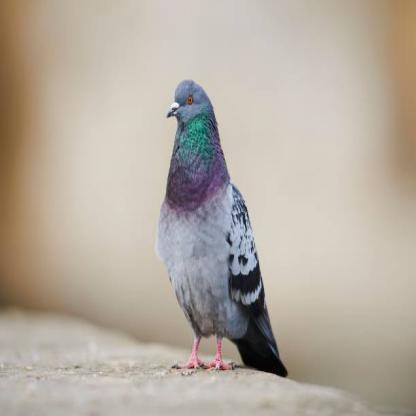Rock Pigeon: (153, 70, 290, 372)
